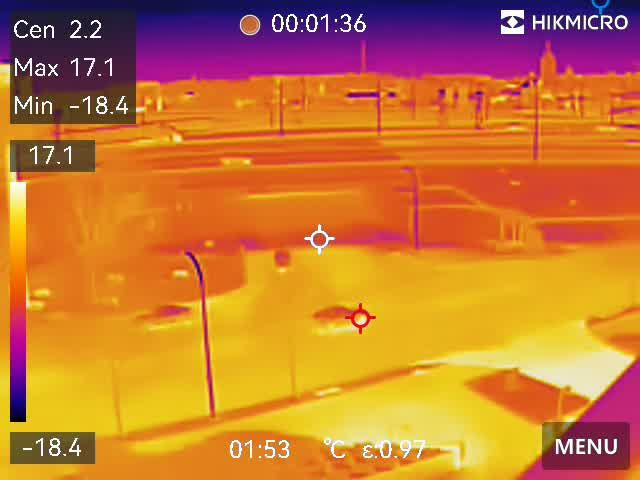heavyTruck: (48, 126, 201, 150)
smallCar: (308, 301, 365, 327), (132, 305, 195, 327), (269, 243, 292, 276)
vehicle: (217, 151, 254, 165)
